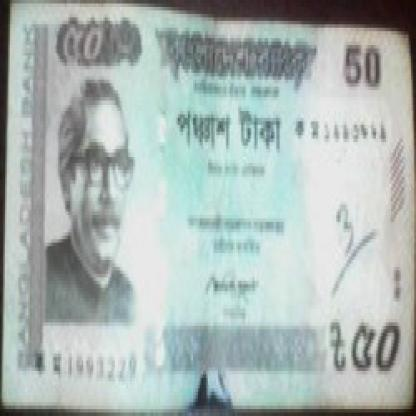Fifty taka: (344, 319, 411, 399), (52, 18, 128, 84)
